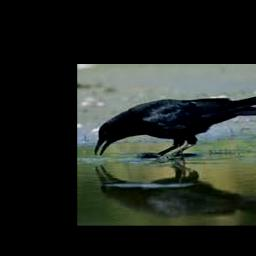Crow: (94, 94, 256, 159)
